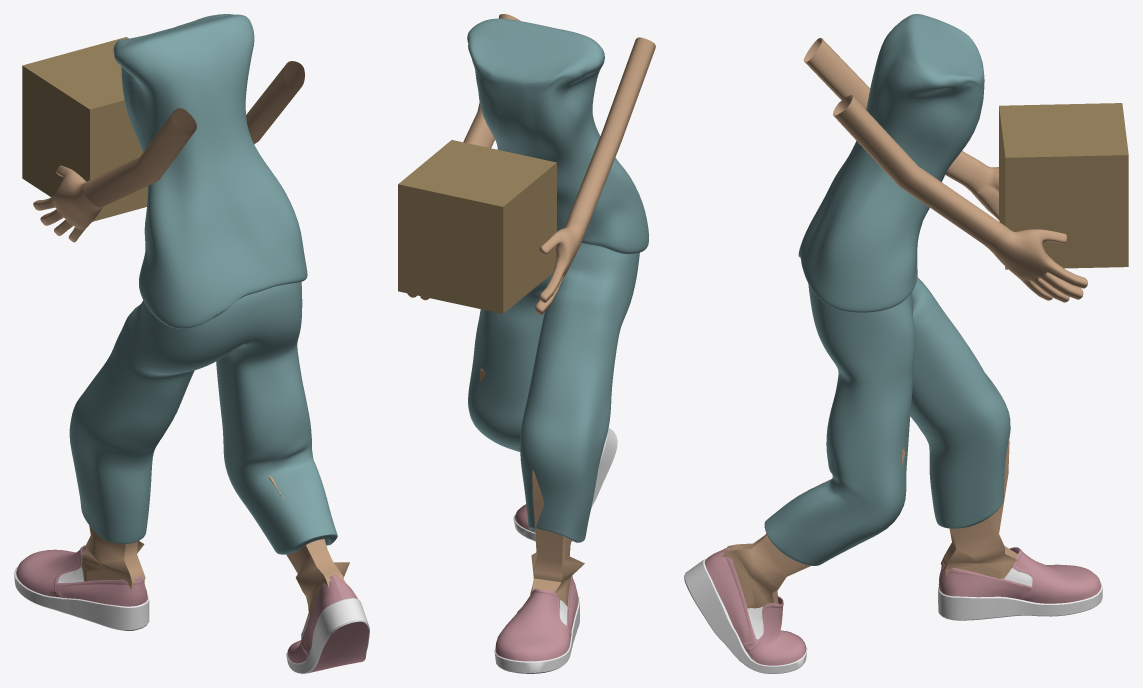
File: M_Mujer Caminando.fbx
3 renders of one model, left to right at view 1: azimuth 30°, elevation 25°; view 2: azimuth 150°, elevation 25°; view 3: azimuth 270°, elevation 25°, orthographic. The views are drawn at different scales.
Visible parts, largest first — view 1: polySurface52, polySurface50, pCube1, polySurface53, Mano2, polySurface55, polySurface54, Mano1, polySurface56; view 2: polySurface52, pCube1, polySurface50, Mano2, polySurface53, polySurface54, polySurface55, Mano1; view 3: polySurface52, polySurface50, pCube1, Mano1, polySurface53, polySurface55, Mano2, polySurface54, polySurface56.
Boxes of the visible parts, <box> form: polySurface52: <box>69,282,337,554</box>; polySurface50: <box>113,14,307,328</box>; pCube1: <box>22,37,147,221</box>; polySurface53: <box>14,545,149,630</box>; Mano2: <box>33,108,196,242</box>; polySurface55: <box>286,575,369,673</box>; polySurface54: <box>81,486,150,589</box>; Mano1: <box>246,61,304,143</box>; polySurface56: <box>268,476,349,616</box>; polySurface52: <box>468,243,639,542</box>; pCube1: <box>398,140,556,313</box>; polySurface50: <box>467,18,648,254</box>; Mano2: <box>535,37,655,315</box>; polySurface53: <box>494,576,579,673</box>; polySurface54: <box>530,469,584,605</box>; polySurface55: <box>513,428,617,541</box>; Mano1: <box>407,14,520,300</box>; polySurface52: <box>764,277,1010,565</box>; polySurface50: <box>798,14,984,312</box>; pCube1: <box>999,103,1128,269</box>; Mano1: <box>833,95,1087,302</box>; polySurface53: <box>938,547,1102,620</box>; polySurface55: <box>684,546,807,673</box>; Mano2: <box>803,38,999,220</box>; polySurface54: <box>940,438,1018,578</box>; polySurface56: <box>721,448,905,608</box>.
Bounding box in the file's own units: 6.4 × 19.06 × 12.9.
